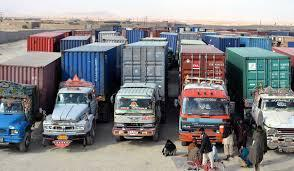truck: (42, 41, 122, 144), (225, 46, 294, 154), (1, 52, 60, 155), (179, 44, 233, 145), (115, 42, 167, 140)
